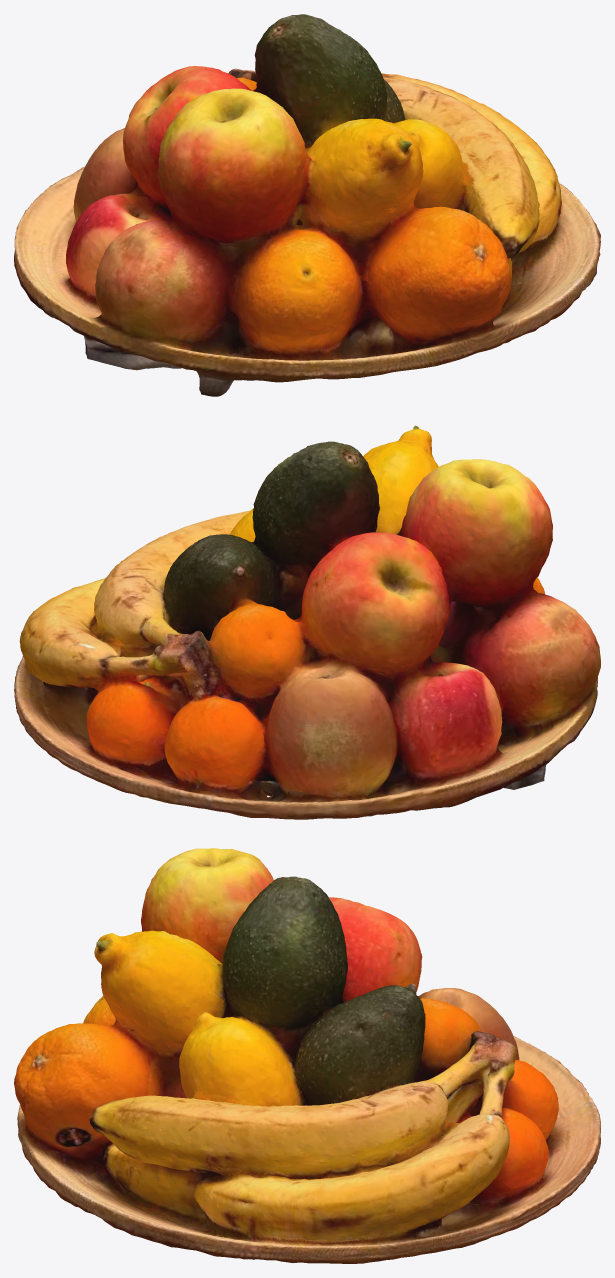
File: 静物still_life__nature_morte_std_opt.glb
3 renders of one model, top to bottom at view 1: azimuth 30°, elevation 25°; view 2: azimuth 150°, elevation 25°; view 3: azimuth 270°, elevation 25°, orthographic.
Parts seen in each view (by area): view 1: Object_2; view 2: Object_2; view 3: Object_2.
Part boxes in pixels (box(x1,y1,x2,y2)): Object_2: box(14, 14, 600, 396); Object_2: box(14, 425, 600, 819); Object_2: box(14, 848, 600, 1263).
Bounding box in the file's own units: 0.3208 × 0.1775 × 0.3213.
1 material, 1 textured.
